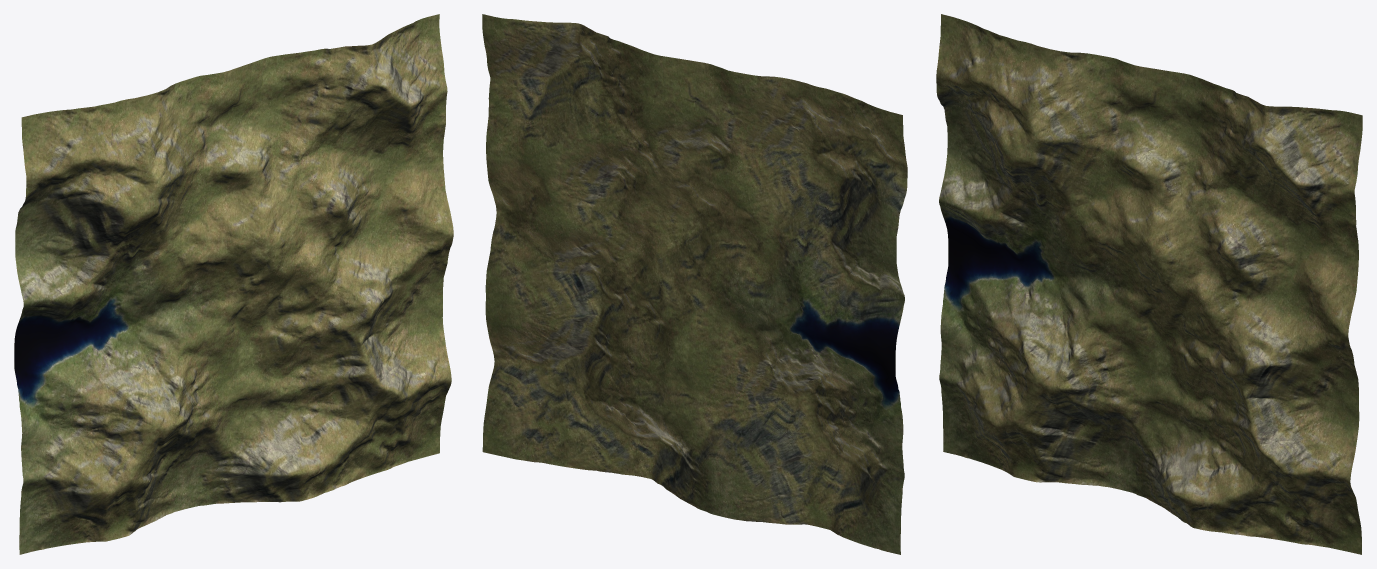
Rendered from temperate_mesh_terrain.obj.
3 renders of one model, left to right at view 1: azimuth 30°, elevation 25°; view 2: azimuth 150°, elevation 25°; view 3: azimuth 330°, elevation 25°, orthographic.
Parts seen in each view (by area): view 1: terrain_o; view 2: terrain_o; view 3: terrain_o.
Boxes of the visible parts, x1,y1,x2,y2 form: terrain_o: (14, 14, 453, 554); terrain_o: (482, 14, 907, 554); terrain_o: (936, 14, 1362, 554).
Bounding box in the file's own units: 10230 × 10230 × 1272.
1 material, 1 textured.
